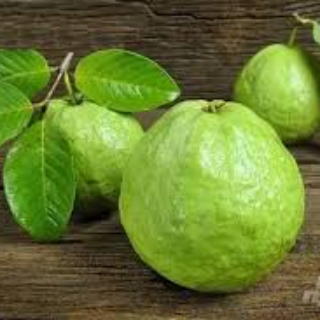oi: (116, 93, 307, 304)
